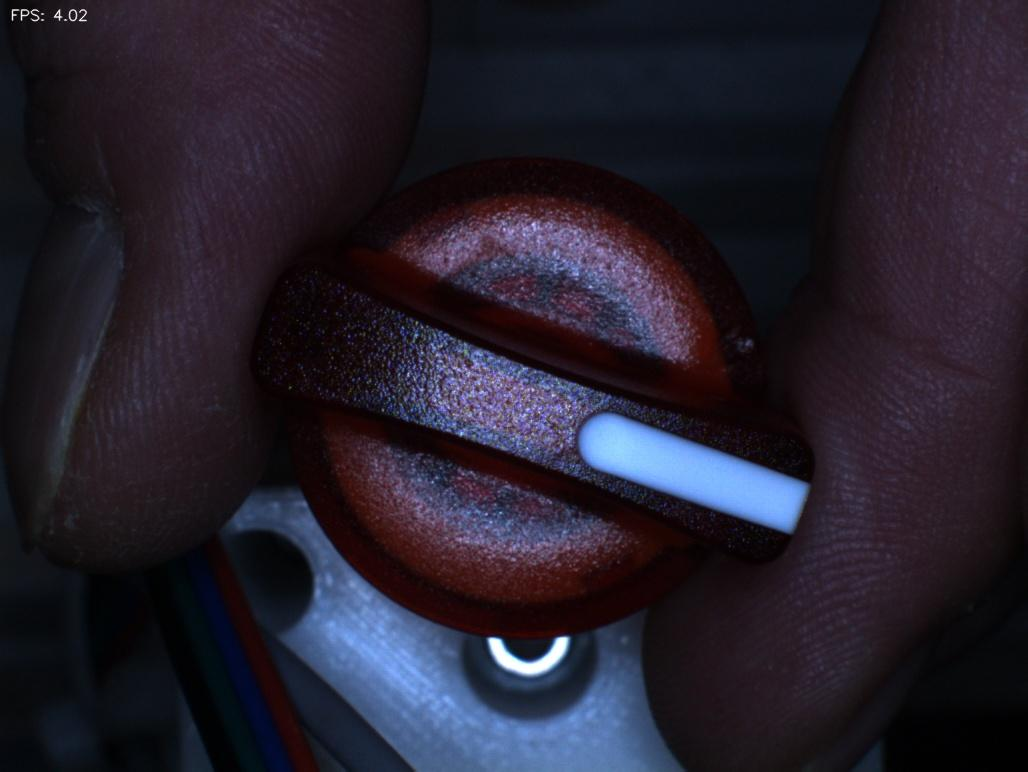Choc: (696, 287, 776, 381)
